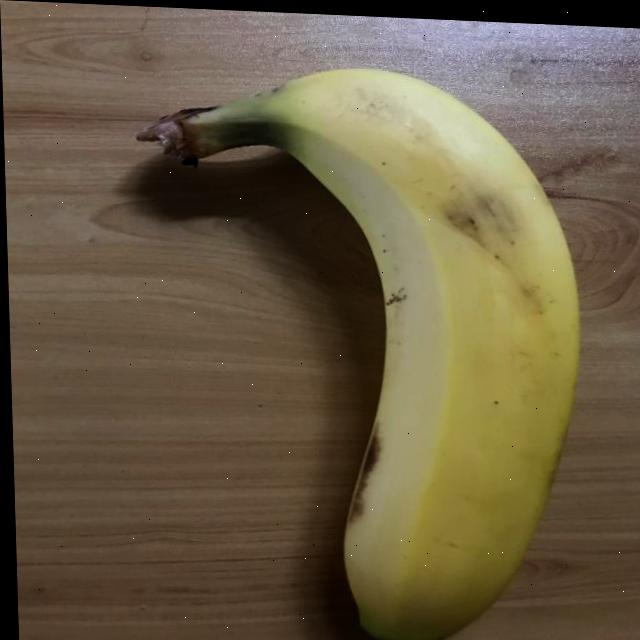banana: (137, 52, 616, 640)
